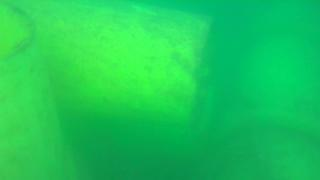pipe: (1, 1, 220, 160), (222, 1, 320, 179), (1, 1, 74, 180)
